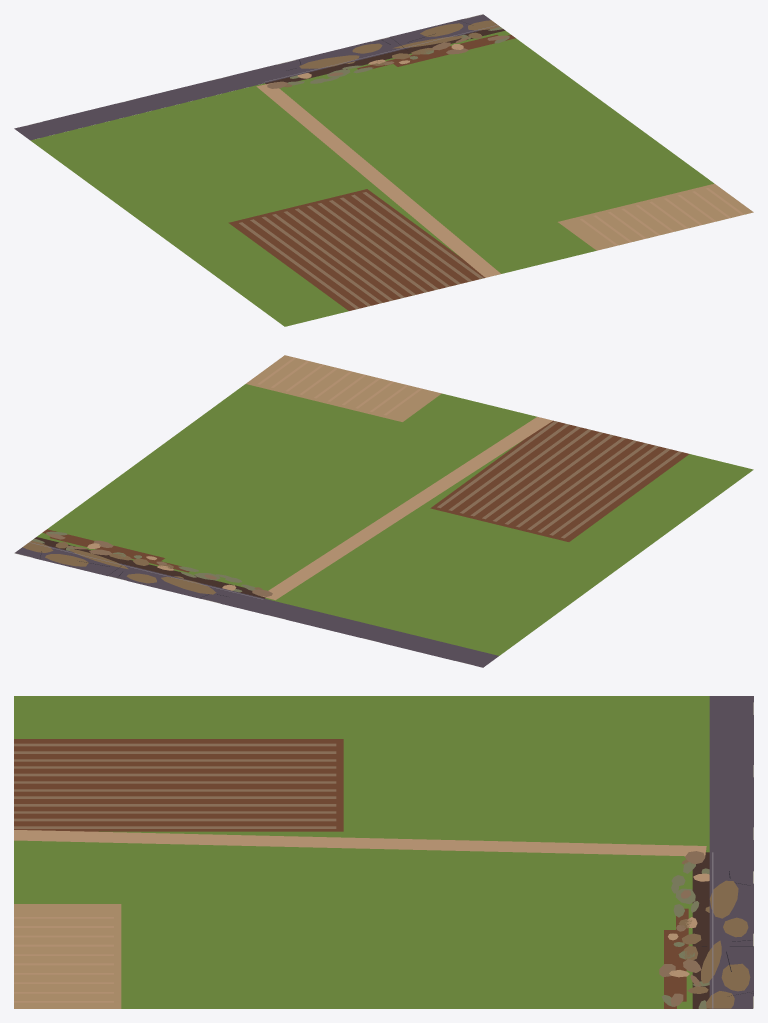
File: crossing-0-4.glb
3 renders of one model, top to bottom at view 1: azimuth 30°, elevation 25°; view 2: azimuth 150°, elevation 25°; view 3: azimuth 270°, elevation 25°, orthographic. The views are drawn at different scales.
Parts seen in each view (by area): view 1: crossing-0-4; view 2: crossing-0-4; view 3: crossing-0-4.
Part boxes in pixels (bbox=[...]): crossing-0-4: bbox=[14, 14, 753, 326]; crossing-0-4: bbox=[14, 355, 753, 667]; crossing-0-4: bbox=[14, 696, 753, 1008].
Bounding box in the file's own units: 100 × 0.0145 × 100.
